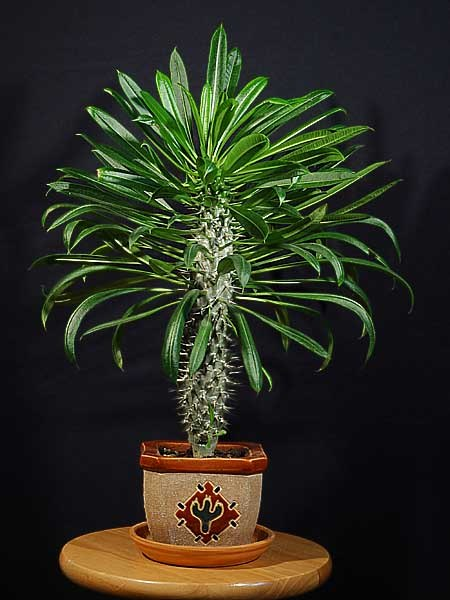Pachypodium lamerei Drake: (87, 49, 371, 465)
